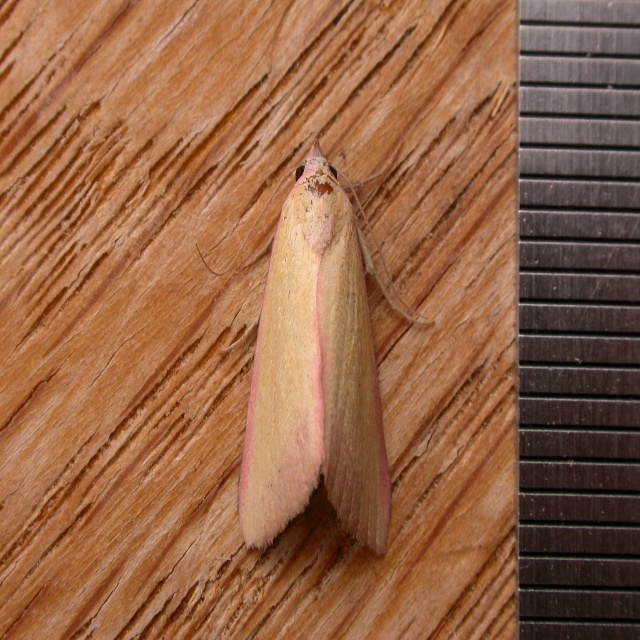Moths and butterflies: (194, 135, 440, 567)
